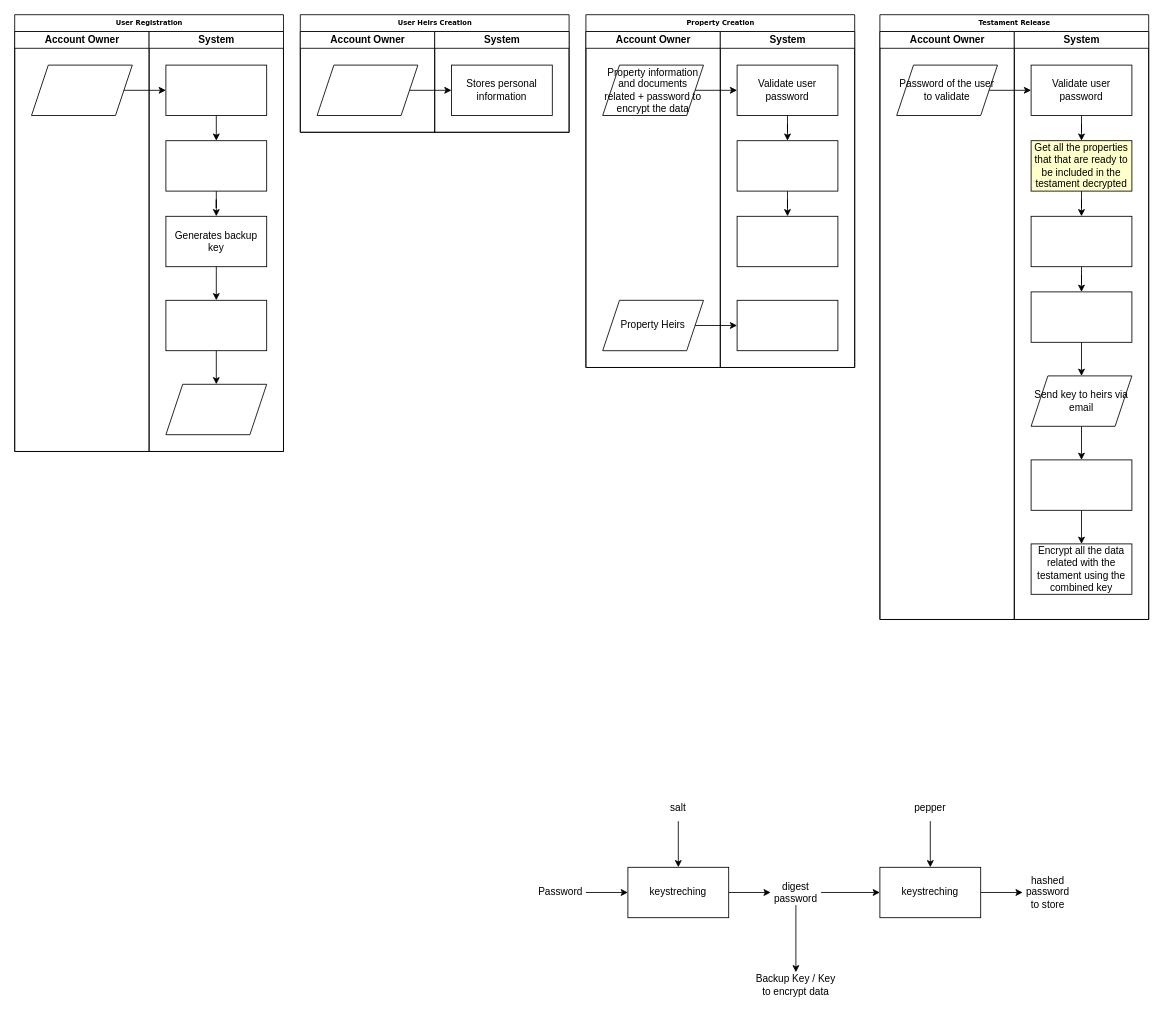
The diagram is 1163 pixels wide and 1012 high, and some of its shapes have lost their labels. Here are the shapes that lost their labels. From the top down, the centre of each, then its label:
[81,90]: Personal Information + username + password
[216,90]: Validates that the username is unique
[367,90]: Heir Personal Information + Email
[216,165]: Hash Password
[787,165]: Encrypt property sensible data + documents content using the password
[787,241]: Store property and documents
[1081,241]: Get all the heirs related with the properties
[216,325]: Store user data
[787,325]: Store data of the heirs related with a particular property
[1081,316]: Generate Unique Key to all the heirs that doesn't have a key generated
[216,409]: Return backup key
[1081,484]: Create the combined key using the keys of all the heirs
